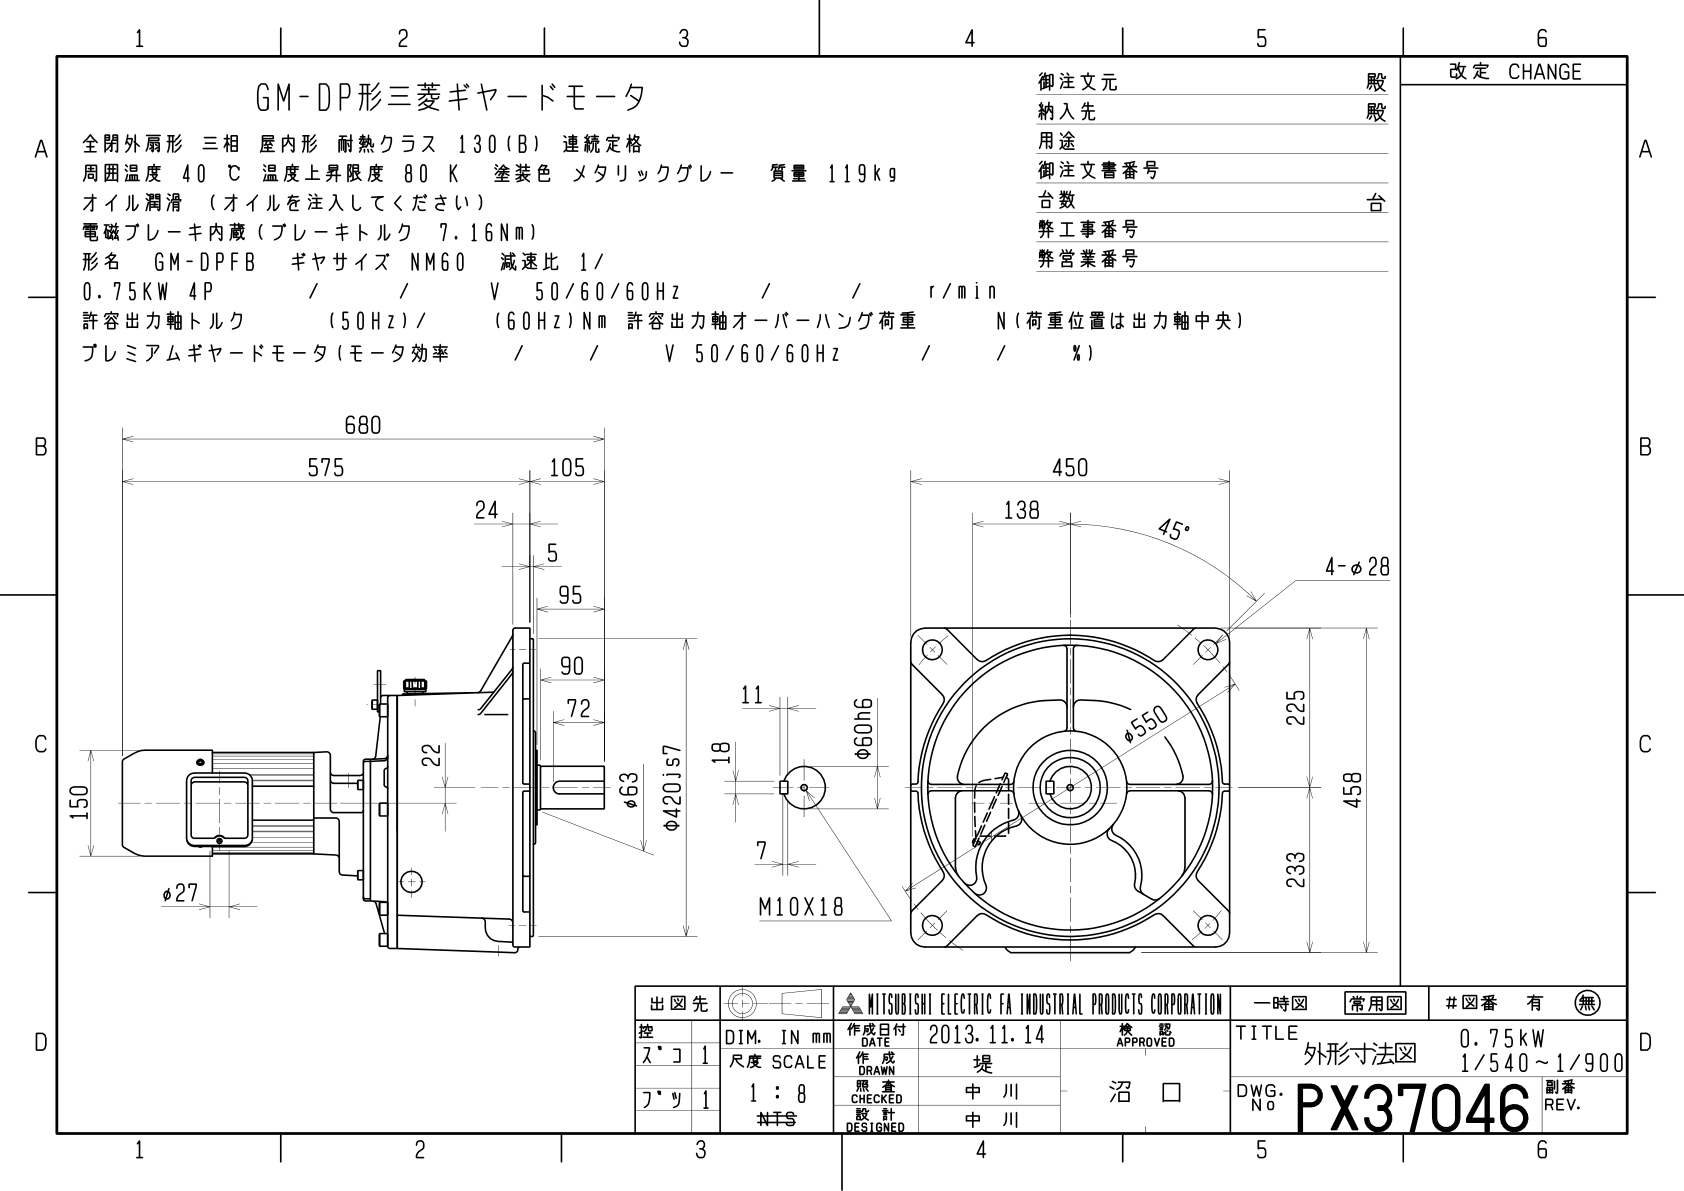GM_DP_屋内_三相_フランジ: (12, 8, 1676, 1185)
